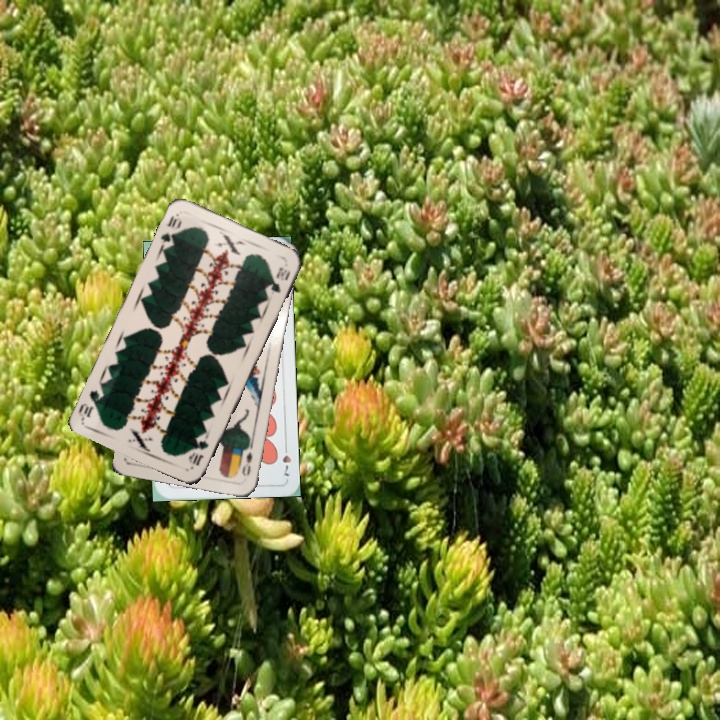EO: (236, 442, 255, 478)
G10: (157, 210, 184, 251), (185, 436, 211, 468)
H7: (278, 440, 293, 479)
